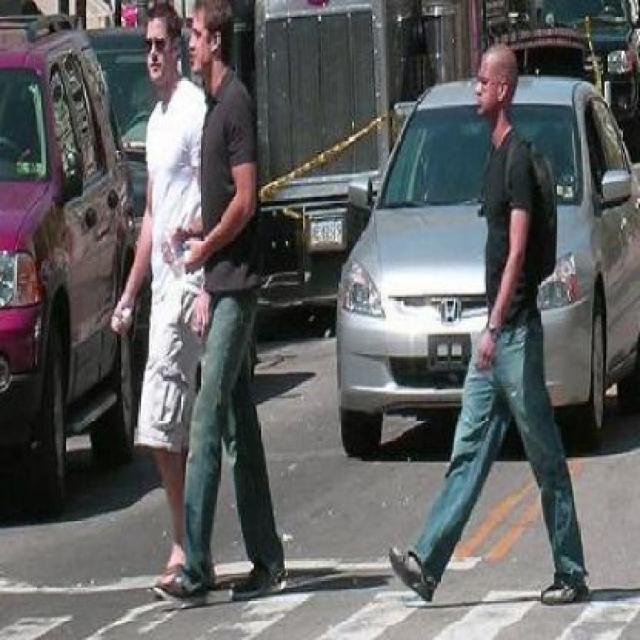Person: (382, 34, 601, 606), (155, 0, 293, 603), (120, 9, 205, 580)
